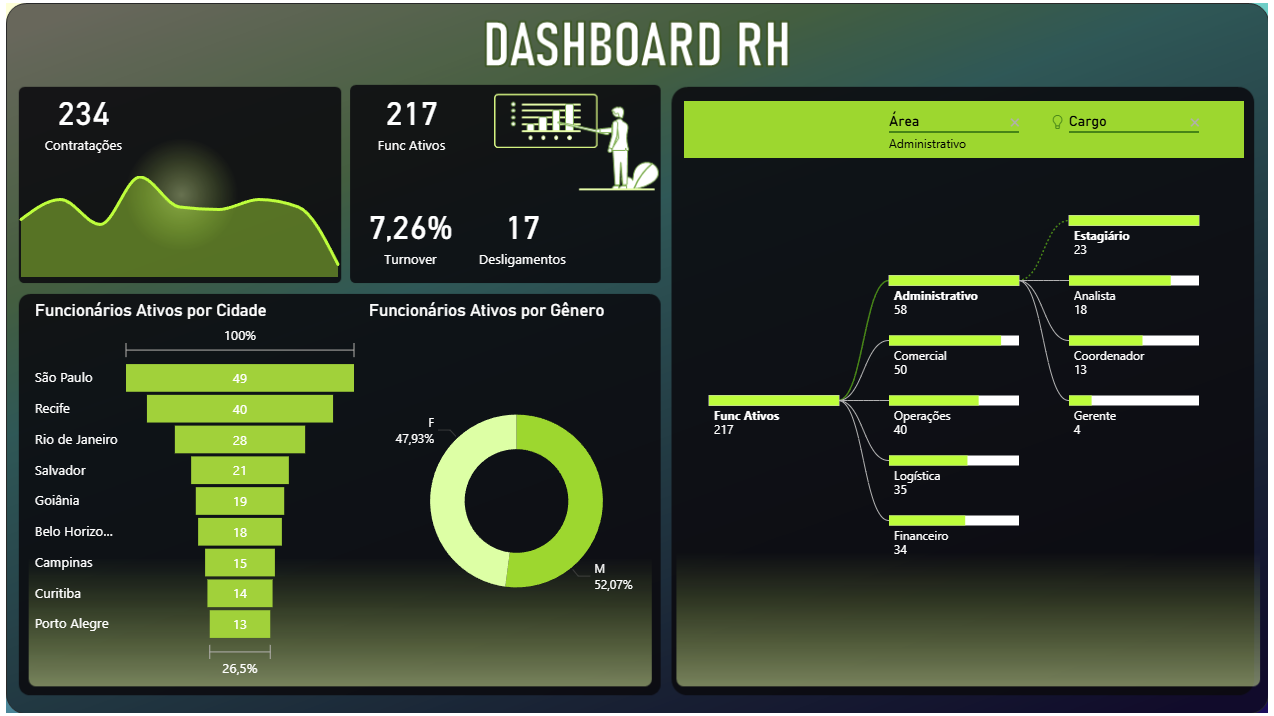

What the dashboard file says about the page in this screenshot:
{"tool":"powerbi","page":{"name":"Page 1","canvas":[1280,720],"ordinal":0},"visuals":[{"type":"card","fields":{"Values":["BaseFuncionarios.Total Contratações"]},"box":[29.3,63.8,114.7,113.9],"z":1000},{"type":"lineChart","fields":{"Y":["BaseFuncionarios.Total Contratações"],"Category":["BaseFuncionarios.Data de Contratacao.Variation.Date Hierarchy.Year"]},"box":[3.6,164.8,346.4,121.2],"z":2000},{"type":"card","fields":{"Values":["BaseFuncionarios.Func Ativos"]},"box":[358,63.8,113,113.9],"z":3000},{"type":"card","fields":{"Values":["BaseFuncionarios.Desligamentos"]},"box":[481.2,177.6,114.8,114],"z":4000},{"type":"card","fields":{"Values":["BaseFuncionarios.Turnover"]},"box":[356.2,177.7,114.7,113.9],"z":5000},{"type":"funnel","title":"Funcionários Ativos por Cidade","fields":{"Y":["BaseFuncionarios.Func Ativos"],"Category":["BaseFuncionarios.Cidade"]},"box":[32.8,301.9,333.8,383],"z":6000},{"type":"donutChart","title":"Funcionários Ativos por Gênero","fields":{"Y":["BaseFuncionarios.Func Ativos"],"Category":["BaseFuncionarios.Genero"]},"box":[366.6,301.9,305.3,383],"z":7000},{"type":"decompositionTreeVisual","fields":{"Analyze":["BaseFuncionarios.Func Ativos"],"ExplainBy":["BaseFuncionarios.Área","BaseFuncionarios.Cargo"]},"box":[682.3,98.3,569.3,586.5],"z":8000}]}

Visuals, with their boxes in screenshot pixels (x1, y1, x2, y2), scaled from the page's 1280x720 canvas onto the 1274x716 screenshot:
card - BaseFuncionarios.Total Contratações: locate(29, 63, 143, 177)
lineChart - BaseFuncionarios.Total Contratações x BaseFuncionarios.Data de Contratacao.Variation.Date Hierarchy.Year: locate(4, 164, 348, 284)
card - BaseFuncionarios.Func Ativos: locate(356, 63, 469, 177)
card - BaseFuncionarios.Desligamentos: locate(479, 177, 593, 290)
card - BaseFuncionarios.Turnover: locate(355, 177, 469, 290)
"Funcionários Ativos por Cidade" funnel: locate(33, 300, 365, 681)
"Funcionários Ativos por Gênero" donutChart: locate(365, 300, 669, 681)
decompositionTreeVisual - BaseFuncionarios.Func Ativos x BaseFuncionarios.Área: locate(679, 98, 1246, 681)
